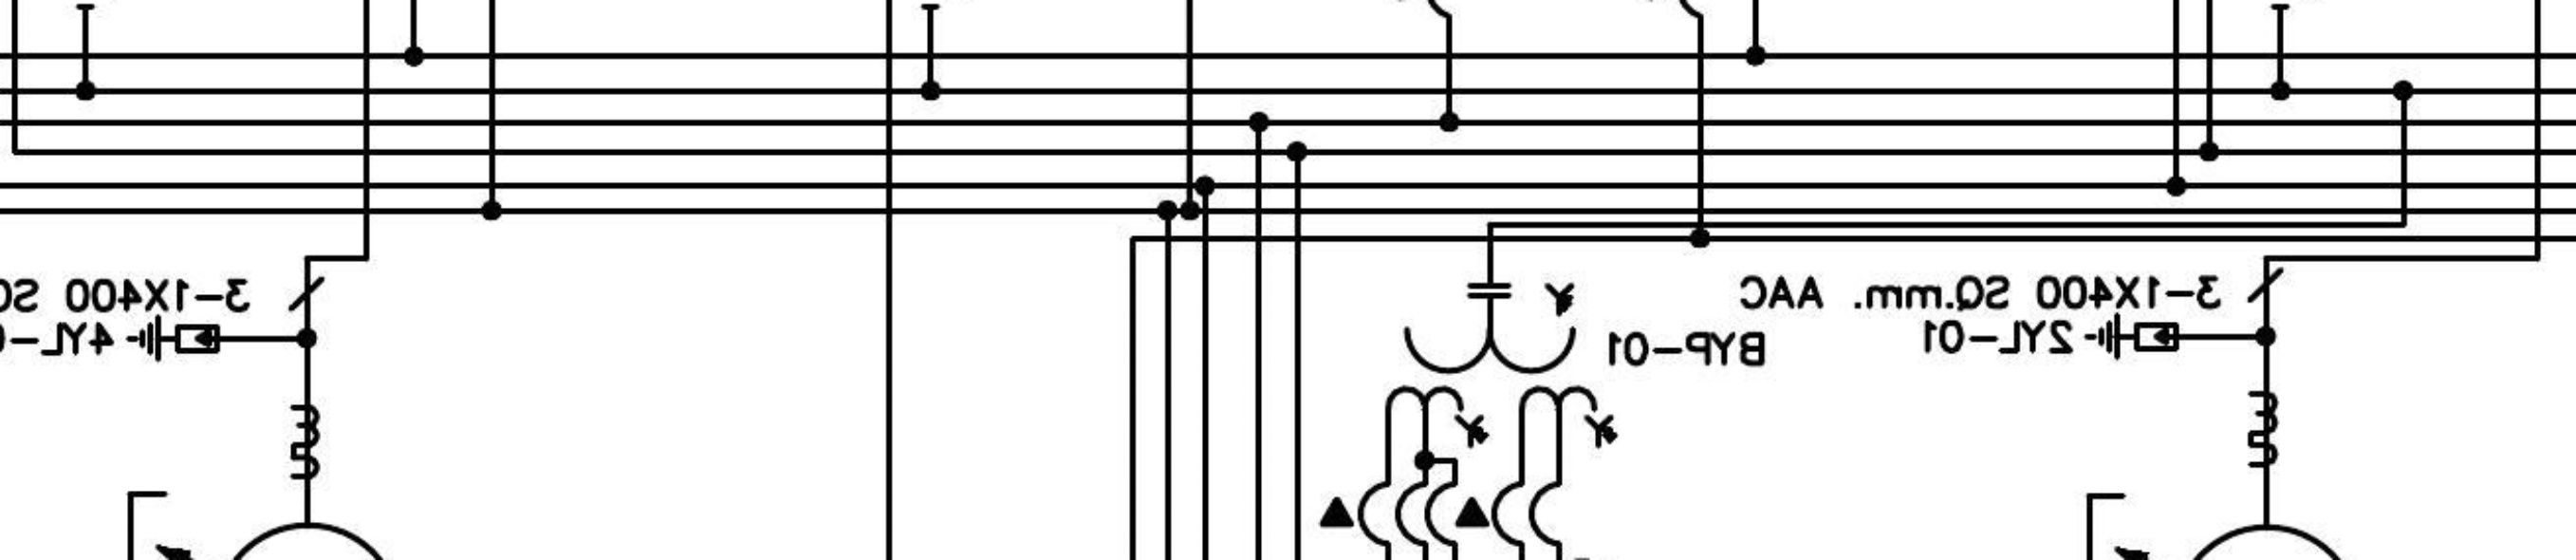115_cvt_3p: (1383, 282, 1620, 450)
115_la: (125, 314, 220, 365), (2083, 312, 2180, 361)
